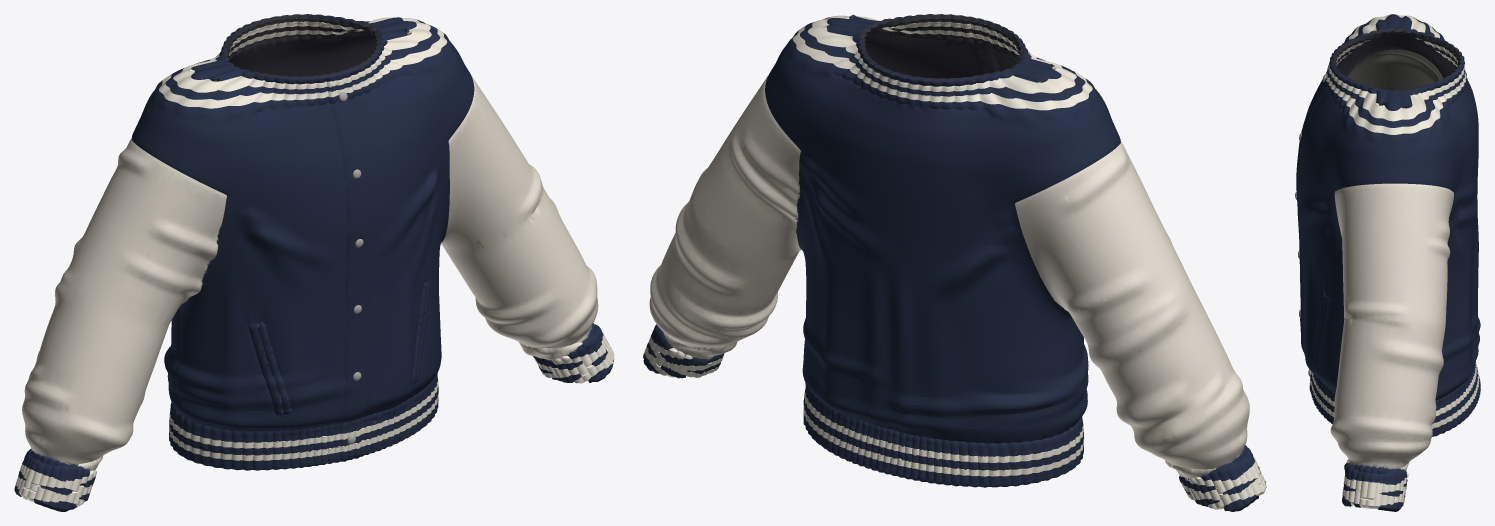
File: 02_chaqueta_varsity_pbr.glb
The picture shows the model from 3 angles, left to right: view 1: azimuth 30°, elevation 25°; view 2: azimuth 150°, elevation 25°; view 3: azimuth 270°, elevation 25°; orthographic projection. The views are drawn at different scales.
Parts seen in each view (by area): view 1: Camiseta PBR, Cordones y adornos; view 2: Camiseta PBR, Cordones y adornos; view 3: Camiseta PBR, Cordones y adornos.
Boxes of the visible parts, box(x1,y1,x2,y2) form: Camiseta PBR: box(14, 14, 614, 511); Cordones y adornos: box(15, 17, 614, 506); Camiseta PBR: box(643, 14, 1265, 511); Cordones y adornos: box(644, 15, 1266, 509); Camiseta PBR: box(1296, 14, 1480, 511); Cordones y adornos: box(1310, 14, 1479, 508).
Bounding box in the file's own units: 1.01 × 0.621 × 0.3145.
3 materials, 1 textured.
